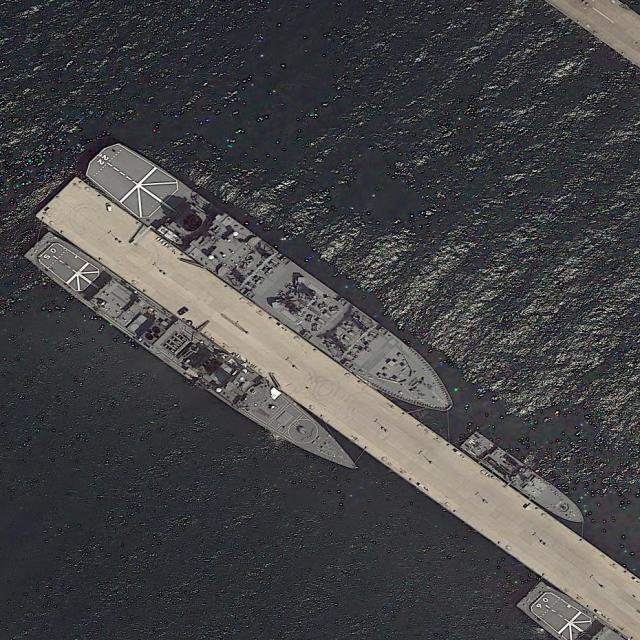Auxiliary Ships: (80, 131, 468, 430)
Destroyer: (19, 221, 372, 489)
Other Warship: (460, 427, 592, 534)
